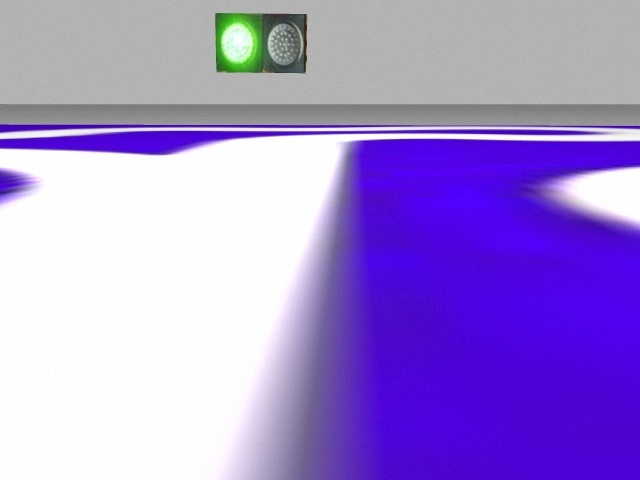green: (215, 12, 263, 74)
